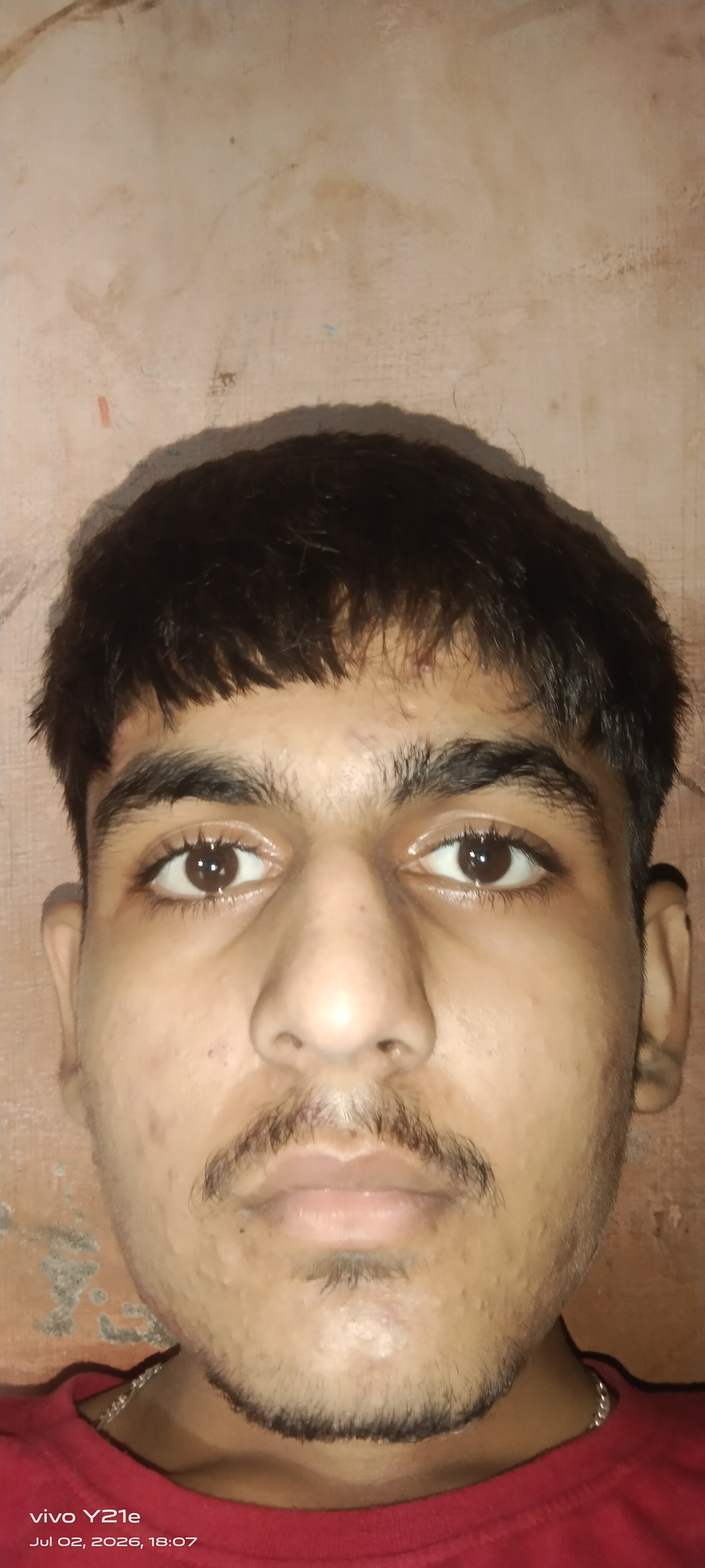closed_comedone: (186, 1258, 245, 1290), (515, 1274, 542, 1304), (485, 1264, 508, 1290), (458, 1308, 474, 1321)
papule: (339, 718, 379, 756)
